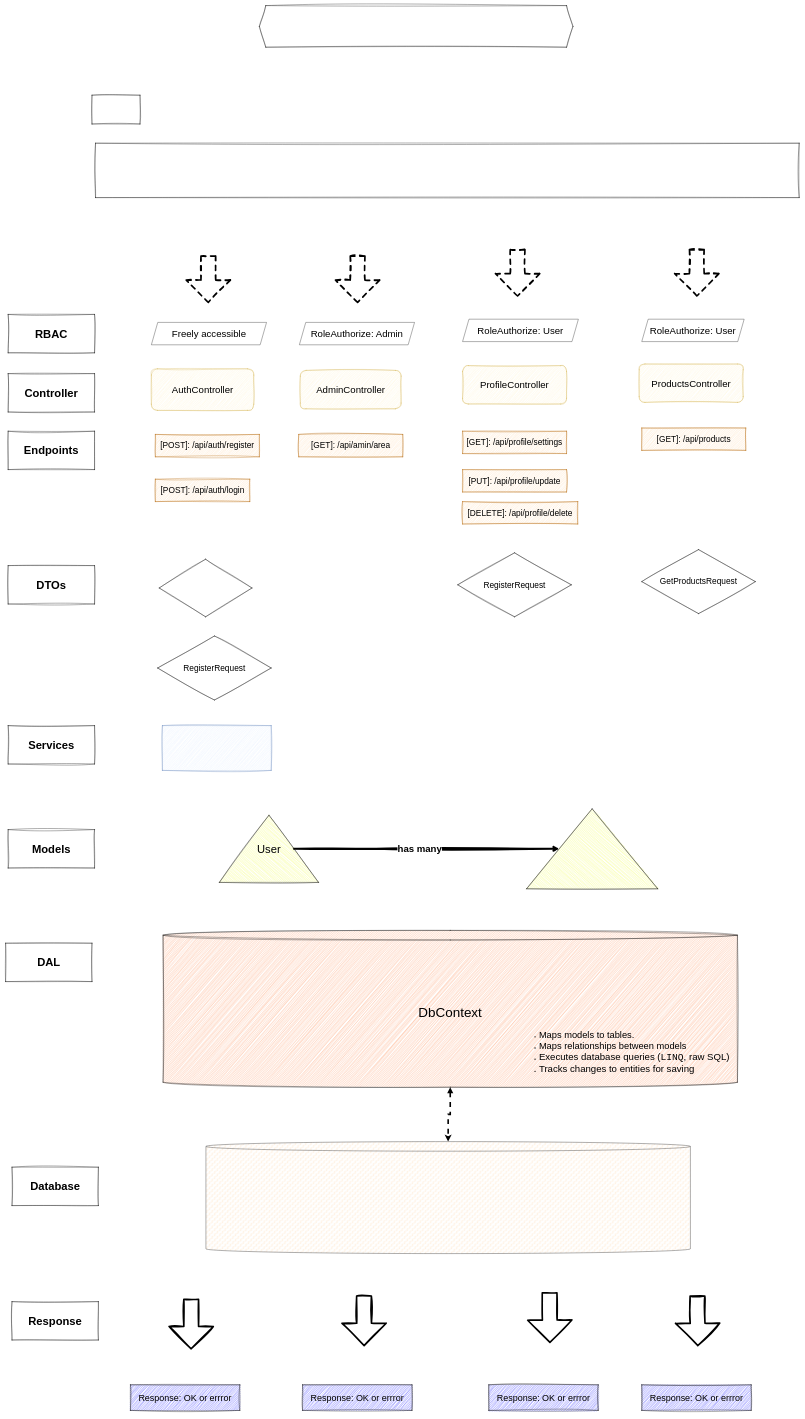
This 805x1419 diagram has some shape labels left out. Here are the shapes that lost their labels. From the top down, the centre of each, then its label:
the point at 416,26: Backend architecture
the point at 116,109: .NET 7
the point at 447,170: HTTP requests
the point at 205,588: LoginRequest
the point at 216,747: AuthService
the point at 592,848: Product
the point at 448,1197: PostgreSQL
